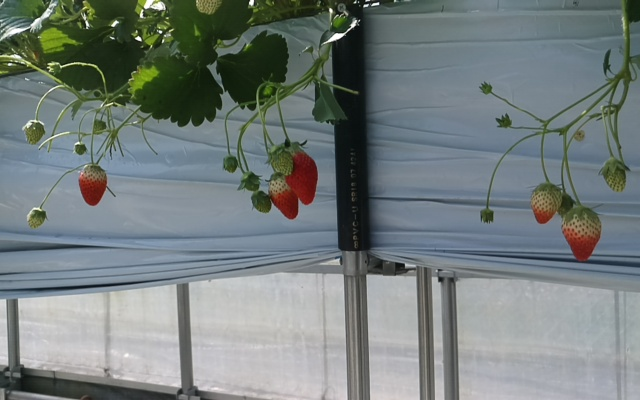GreenStrawberry: (560, 204, 602, 265), (530, 179, 562, 226), (602, 156, 630, 193), (266, 144, 293, 176), (21, 119, 48, 147), (26, 207, 48, 232), (250, 190, 273, 213), (239, 171, 262, 192), (222, 154, 238, 174)
MatureStrawberry: (281, 146, 320, 207), (266, 172, 301, 221), (77, 163, 109, 208)
